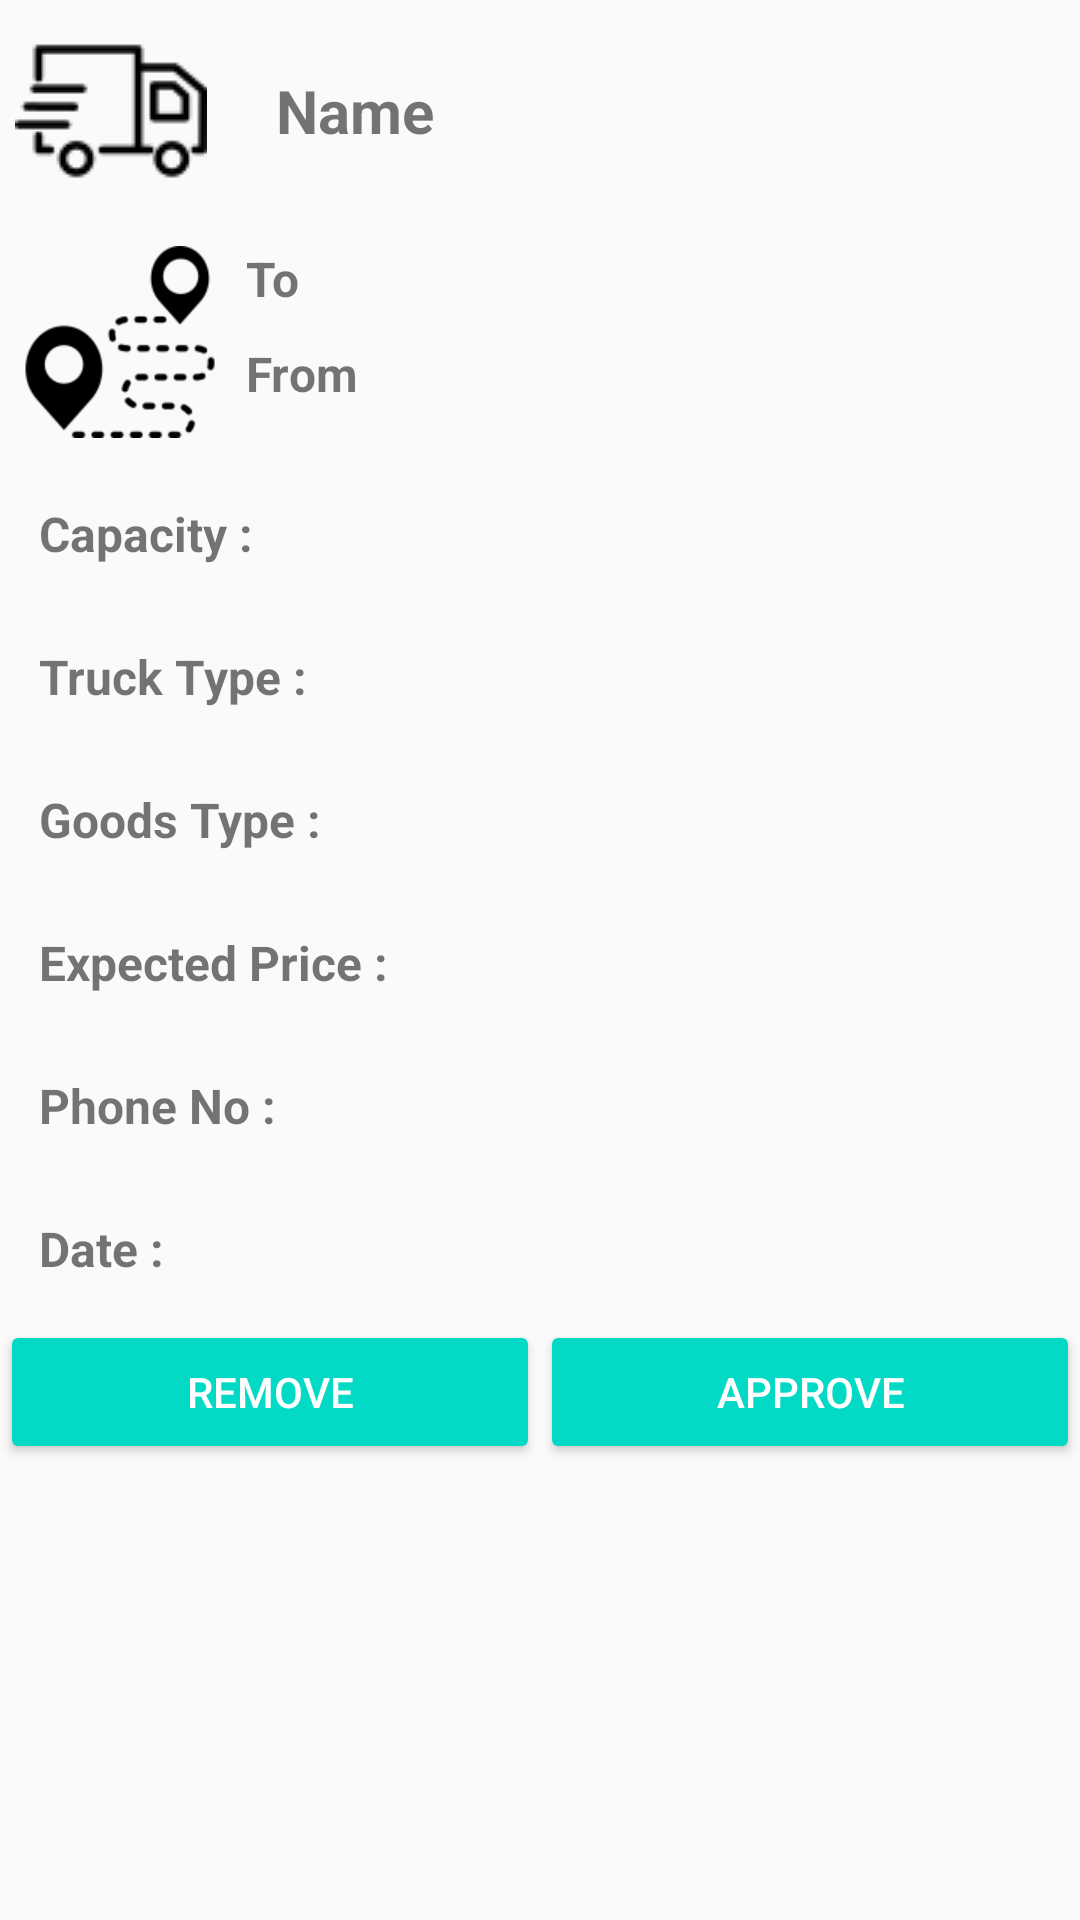

Named icons in this screenshot (1080x1920) and their centers, point (x, y):
route: point (120, 342)
truck: point (111, 111)
